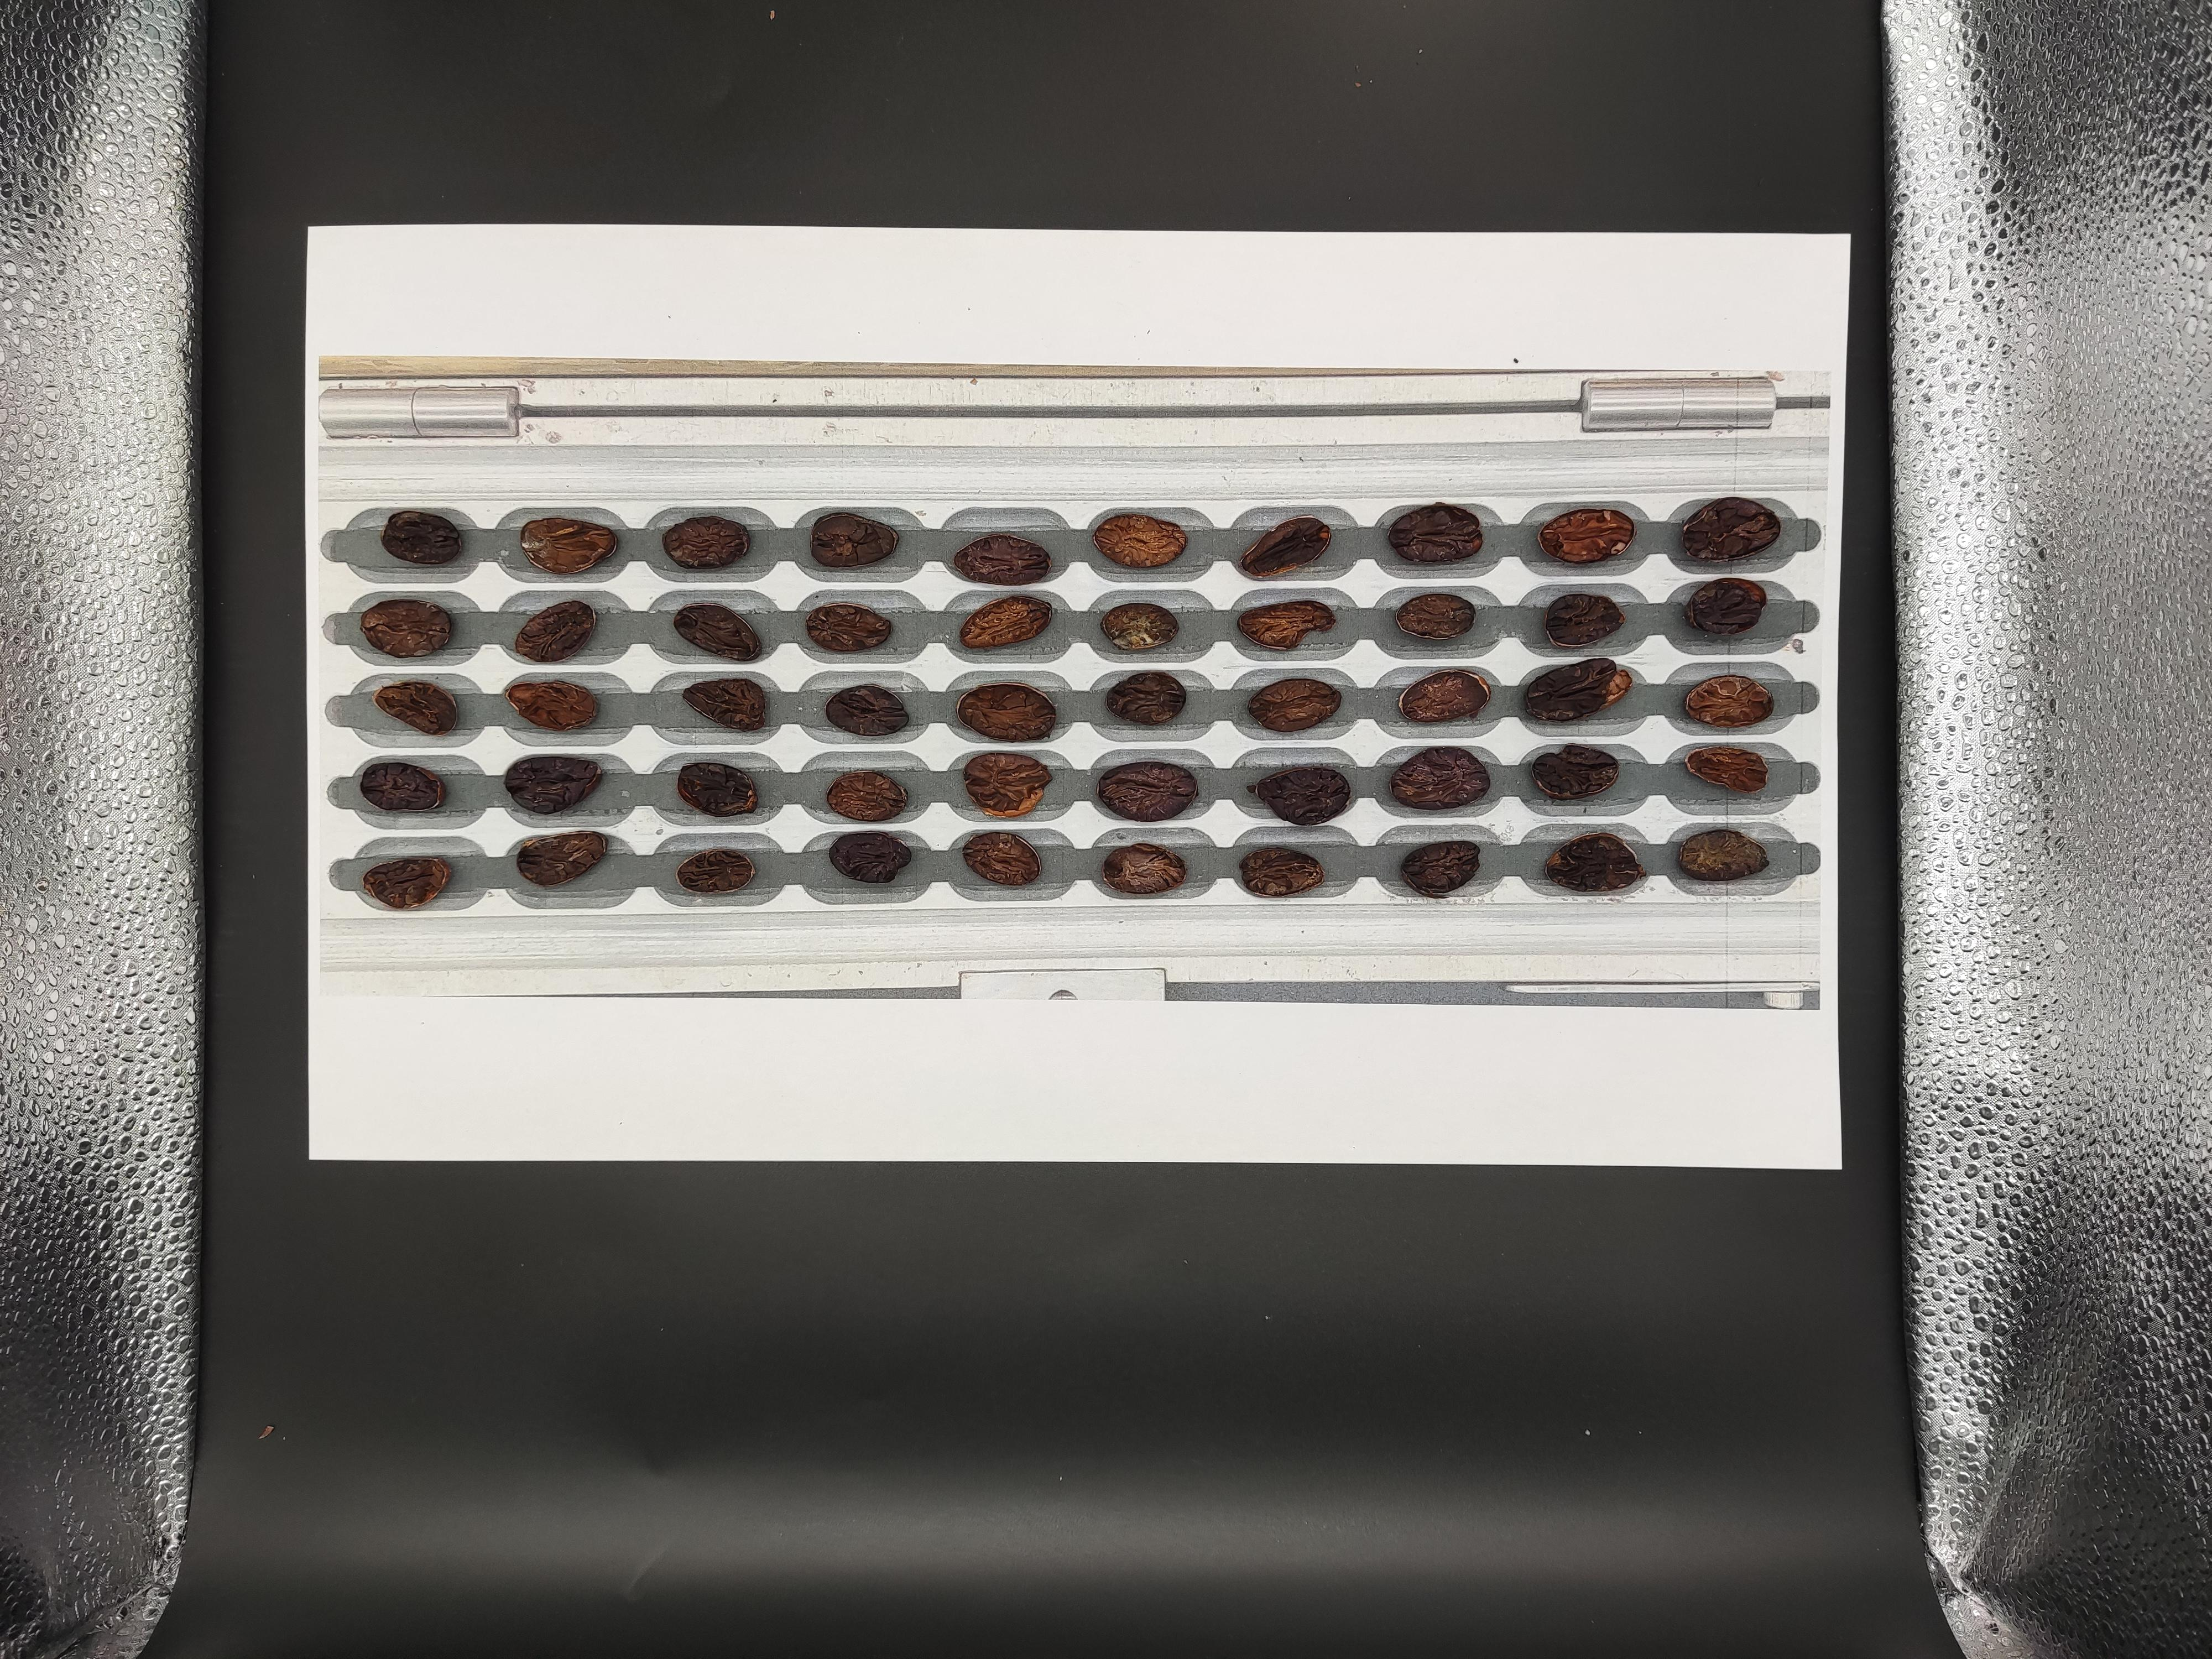Brown - G1: (1864, 1068, 1921, 1103), (1571, 1192, 1623, 1229), (1710, 1241, 1763, 1274), (1939, 1190, 1989, 1222), (1491, 1117, 1540, 1147)
Brown - G2: (1939, 1152, 1993, 1187), (1568, 1112, 1622, 1145), (1712, 1115, 1768, 1147), (1336, 1157, 1390, 1187), (1426, 1155, 1475, 1187), (1571, 1232, 1616, 1265), (1263, 1248, 1313, 1277)
Brown - G3: (1568, 1157, 1627, 1192), (1635, 1070, 1693, 1103), (1716, 1154, 1770, 1188), (1341, 1234, 1395, 1267), (1261, 1115, 1315, 1148), (1268, 1155, 1317, 1190), (1416, 1070, 1467, 1103), (1341, 1117, 1386, 1152), (1642, 1239, 1691, 1270), (1501, 1202, 1547, 1234)
Brown - G4: (1792, 1110, 1839, 1141)
Insect-damaged: (1937, 1232, 1989, 1265)
Mouldy: (1343, 1073, 1399, 1108), (1641, 1115, 1686, 1147)
Partly Purple - G1: (1862, 1188, 1914, 1222), (1869, 1110, 1916, 1147)
Partly Purple - G2: (1787, 1190, 1846, 1229), (1787, 1066, 1843, 1101)
Partly Purple - G3: (1566, 1080, 1620, 1112)
Partly Purple - G4: (1791, 1150, 1848, 1183)
Total Purple - G2: (1336, 1195, 1392, 1229)
Total Purple - G3: (1639, 1197, 1698, 1234), (1717, 1199, 1775, 1236), (1261, 1195, 1312, 1229), (1503, 1234, 1550, 1265)
Very Dark Brown - G1: (1857, 1145, 1919, 1183), (1869, 1234, 1925, 1270), (1939, 1103, 1989, 1140), (1425, 1243, 1468, 1270)
Very Dark Brown - G2: (1939, 1061, 1996, 1103), (1710, 1072, 1766, 1110), (1641, 1152, 1695, 1185), (1794, 1237, 1843, 1274), (1423, 1199, 1470, 1230), (1273, 1070, 1320, 1101)
Very Dark Brown - G3: (1493, 1070, 1543, 1105), (1423, 1117, 1472, 1152), (1500, 1159, 1548, 1188)
